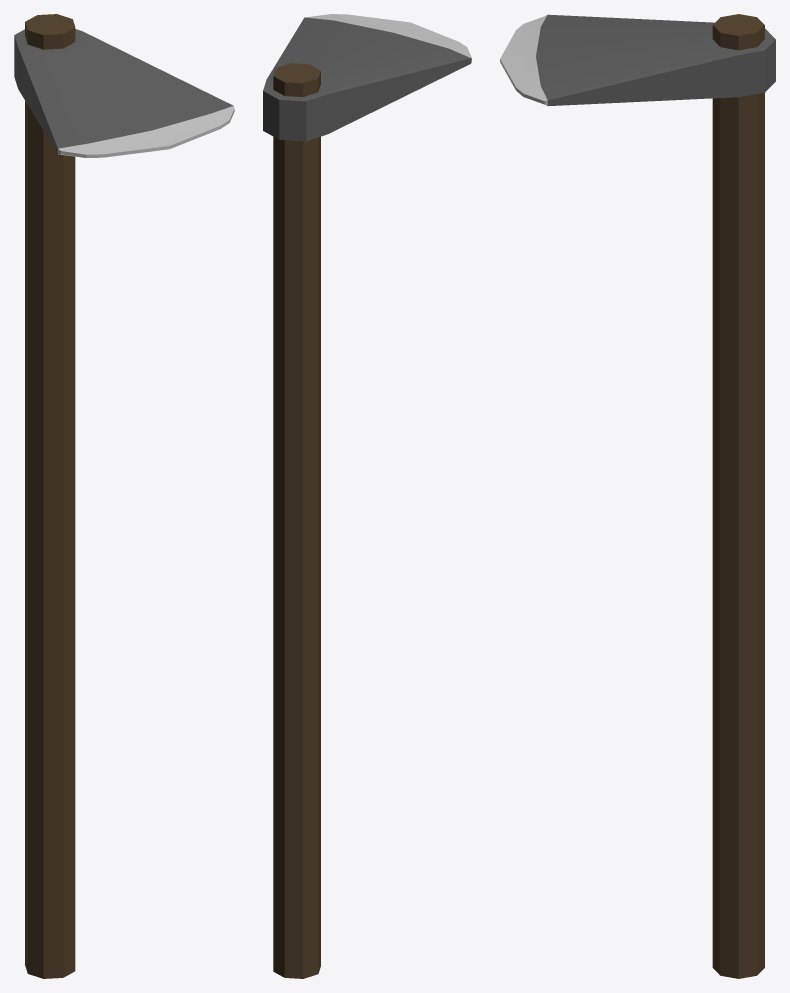
File: Hoe_01.fbx
3 renders of one model, left to right at view 1: azimuth 30°, elevation 25°; view 2: azimuth 150°, elevation 25°; view 3: azimuth 270°, elevation 25°, orthographic. The views are drawn at different scales.
Parts seen in each view (by area): view 1: pCylinder1; view 2: pCylinder1; view 3: pCylinder1.
Boxes of the visible parts, x1,y1,x2,y2 form: pCylinder1: (14, 14, 234, 978); pCylinder1: (263, 14, 471, 978); pCylinder1: (500, 14, 775, 978).
Bounding box in the file's own units: 62.37 × 320 × 84.85.
